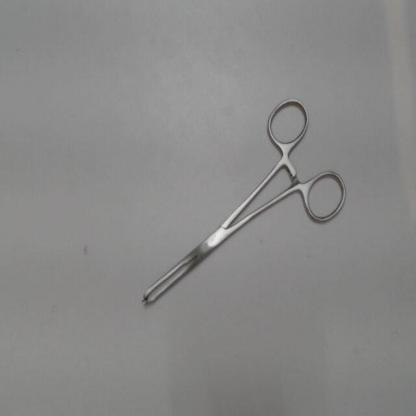Allis Tissue Forceps: (134, 86, 359, 315)
